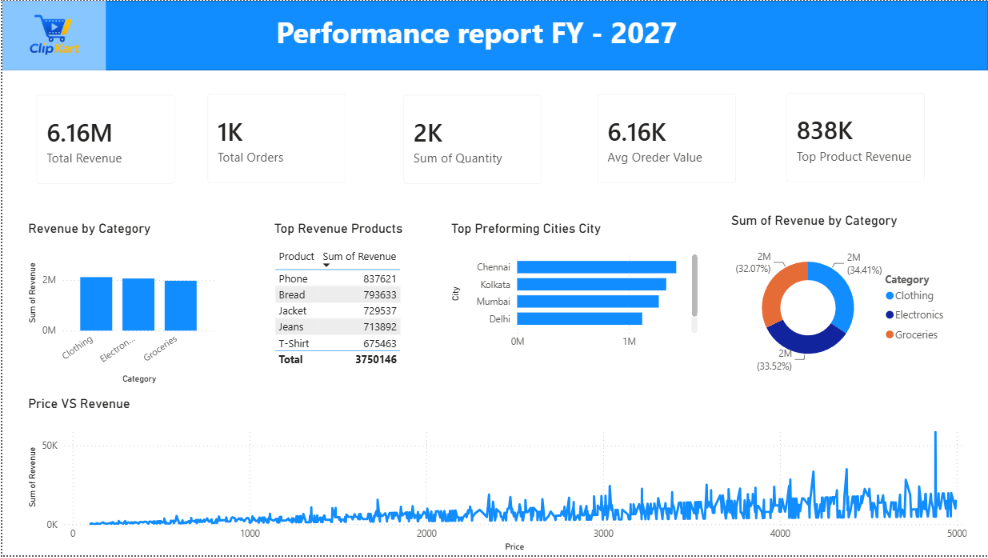

What the dashboard file says about the page in this screenshot:
{"tool":"powerbi","page":{"name":"Page 1","canvas":[1280,720],"ordinal":0},"visuals":[{"type":"shape","box":[0,0,1280.3,90.5],"z":0},{"type":"image","box":[0,0,134.6,91],"z":1000},{"type":"textbox","box":[351,9.8,577.2,70.9],"z":2000},{"type":"cardVisual","fields":{"Data":["clipkart_ecommerce_data.Revenue Card"]},"box":[27.4,105.7,214.1,150],"z":3000},{"type":"lineChart","title":"Price VS Revenue","fields":{"Category":["clipkart_ecommerce_data.Price"],"Y":["Sum(clipkart_ecommerce_data.Revenue)"]},"box":[28.1,513.6,1228.9,206.7],"z":4000},{"type":"columnChart","title":"Revenue by Category","fields":{"Category":["clipkart_ecommerce_data.Category"],"Y":["Sum(clipkart_ecommerce_data.Revenue)"]},"box":[28.1,286.1,253.1,216.4],"z":5000},{"type":"tableEx","title":"Top Revenue Products","fields":{"Values":["clipkart_ecommerce_data.Product","Sum(clipkart_ecommerce_data.Revenue)"]},"box":[348.5,286.1,229.5,251.3],"z":6000},{"type":"cardVisual","title":"Total Orders","fields":{"Data":["CountNonNull(clipkart_ecommerce_data.Revenue)"]},"box":[249.5,103.9,214.1,150],"z":7000},{"type":"cardVisual","title":"Total Orders","fields":{"Data":["Sum(clipkart_ecommerce_data.Quantity)"]},"box":[503.8,105.2,214.1,150],"z":8000},{"type":"clusteredBarChart","title":"Top Preforming Cities City","fields":{"Category":["clipkart_ecommerce_data.City"],"Y":["Sum(clipkart_ecommerce_data.Revenue)"]},"box":[578.4,286.1,330.2,174.9],"z":9000},{"type":"cardVisual","title":"Total Orders","fields":{"Data":["clipkart_ecommerce_data.Avg Oreder Value"]},"box":[755.7,103.9,214.1,150],"z":9001},{"type":"donutChart","fields":{"Category":["clipkart_ecommerce_data.Category"],"Y":["Sum(clipkart_ecommerce_data.Revenue)"]},"box":[941.6,275.1,294.7,216.4],"z":9002},{"type":"cardVisual","title":"Total Orders","fields":{"Data":["clipkart_ecommerce_data.Top Product Revenue"]},"box":[1001.5,102.7,214.1,150],"z":9003}]}

Visuals, with their boxes in screenshot pixels (x1, y1, x2, y2), scaled from the page's 1280x720 canvas onto the 988x558 screenshot:
shape: bbox=(0, 0, 987, 70)
image: bbox=(0, 0, 104, 71)
textbox: bbox=(271, 8, 716, 63)
cardVisual - clipkart_ecommerce_data.Revenue Card: bbox=(21, 82, 186, 198)
"Price VS Revenue" lineChart: bbox=(22, 398, 970, 557)
"Revenue by Category" columnChart: bbox=(22, 222, 217, 389)
"Top Revenue Products" tableEx: bbox=(269, 222, 446, 416)
"Total Orders" cardVisual: bbox=(193, 81, 358, 197)
"Total Orders" cardVisual: bbox=(389, 82, 554, 198)
"Top Preforming Cities City" clusteredBarChart: bbox=(446, 222, 701, 357)
"Total Orders" cardVisual: bbox=(583, 81, 749, 197)
donutChart - clipkart_ecommerce_data.Category x Sum(clipkart_ecommerce_data.Revenue): bbox=(727, 213, 954, 381)
"Total Orders" cardVisual: bbox=(773, 80, 938, 196)
